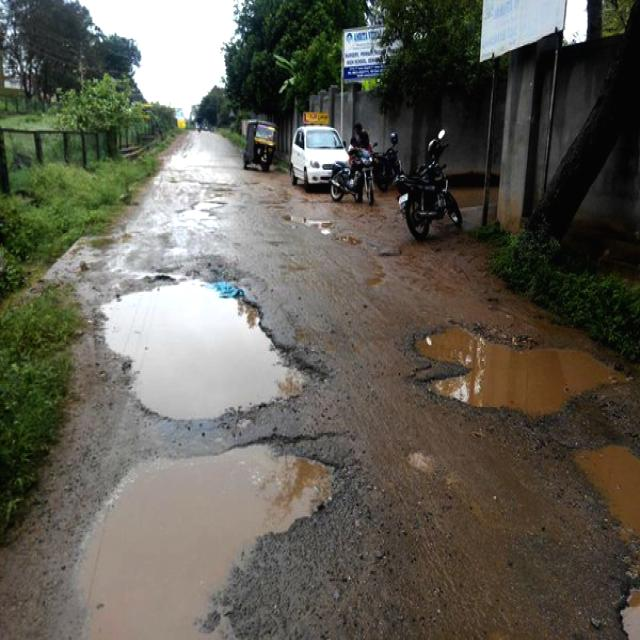Pothole: (60, 257, 353, 640), (399, 309, 640, 640)
